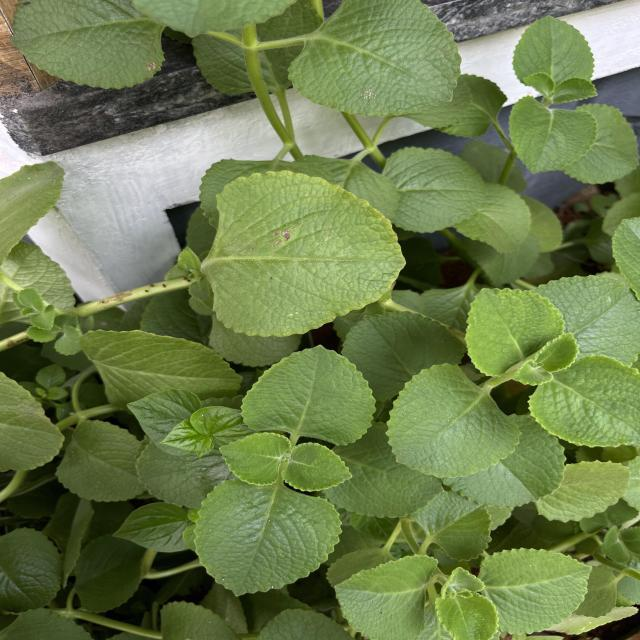Plectranthus barbatus: (203, 170, 410, 339), (287, 0, 467, 118), (193, 478, 344, 596), (386, 362, 523, 479), (239, 343, 378, 446), (75, 326, 244, 400), (441, 412, 566, 509), (524, 353, 640, 449), (478, 546, 594, 636), (379, 146, 488, 235), (463, 285, 567, 378), (332, 553, 438, 640), (54, 418, 146, 502), (506, 96, 600, 174), (412, 488, 496, 562), (74, 534, 150, 614), (510, 15, 594, 86), (218, 431, 292, 487), (281, 442, 354, 494), (434, 593, 501, 640)
